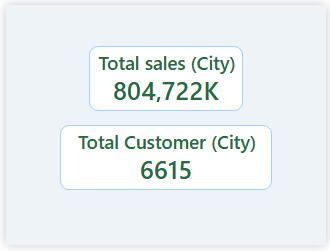

This screenshot's page, from the dashboard's own definition file:
{"tool":"powerbi","page":{"name":"City-Tooltip","canvas":[320,240],"ordinal":1},"visuals":[{"type":"card","title":"Total sales (City)","fields":{"Values":["retail_sales.Total sales"]},"box":[83,41,154,65],"z":0},{"type":"card","title":"Total Customer (City)","fields":{"Values":["retail_sales.total customers"]},"box":[54,120,212,65],"z":1000}]}

Visuals, with their boxes in screenshot pixels (x1, y1, x2, y2), scaled from the page's 320x240 canvas onto the 330x251 screenshot:
"Total sales (City)" card: [86,43,244,111]
"Total Customer (City)" card: [56,126,274,193]
